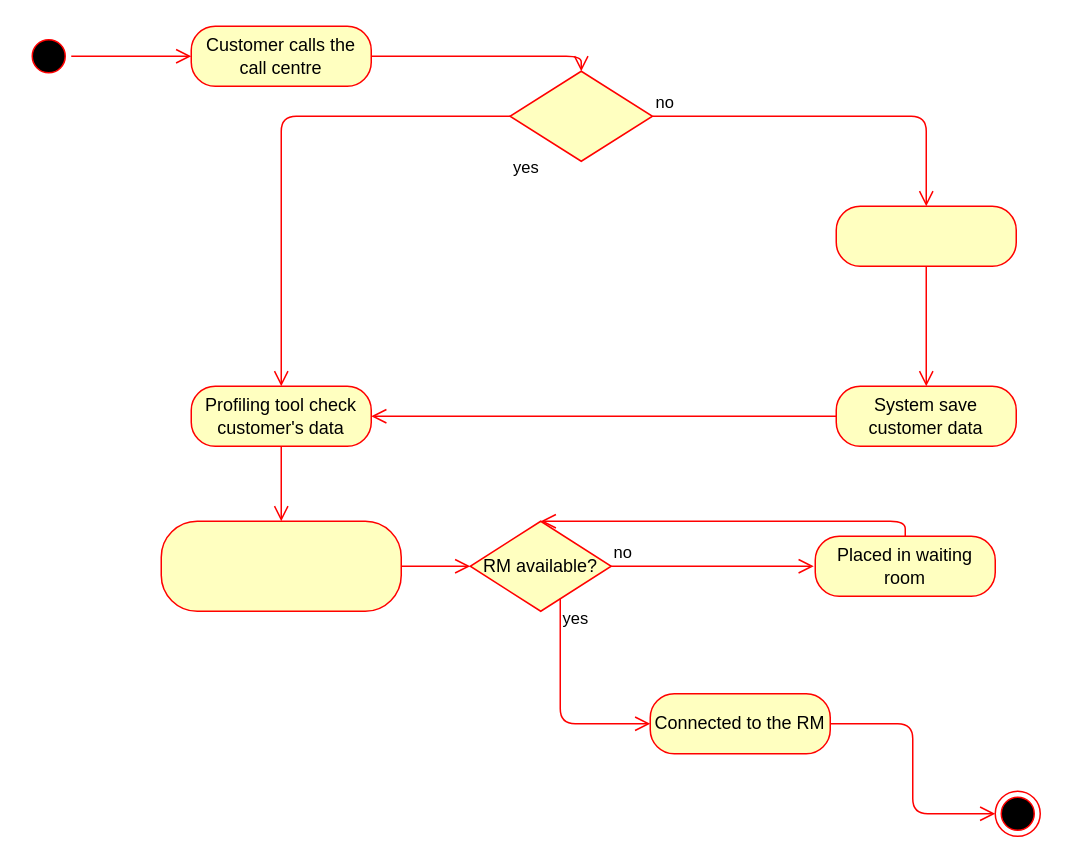
The diagram is 1067 pixels wide and 863 high, and some of its shapes have lost their labels. The centre of each missing label's shape, as x and y in pixels:
Customer fill out form: (925,235)
Existing customer?: (580,115)
Match customer with RM with the highest compatible score with customer: (280,565)
